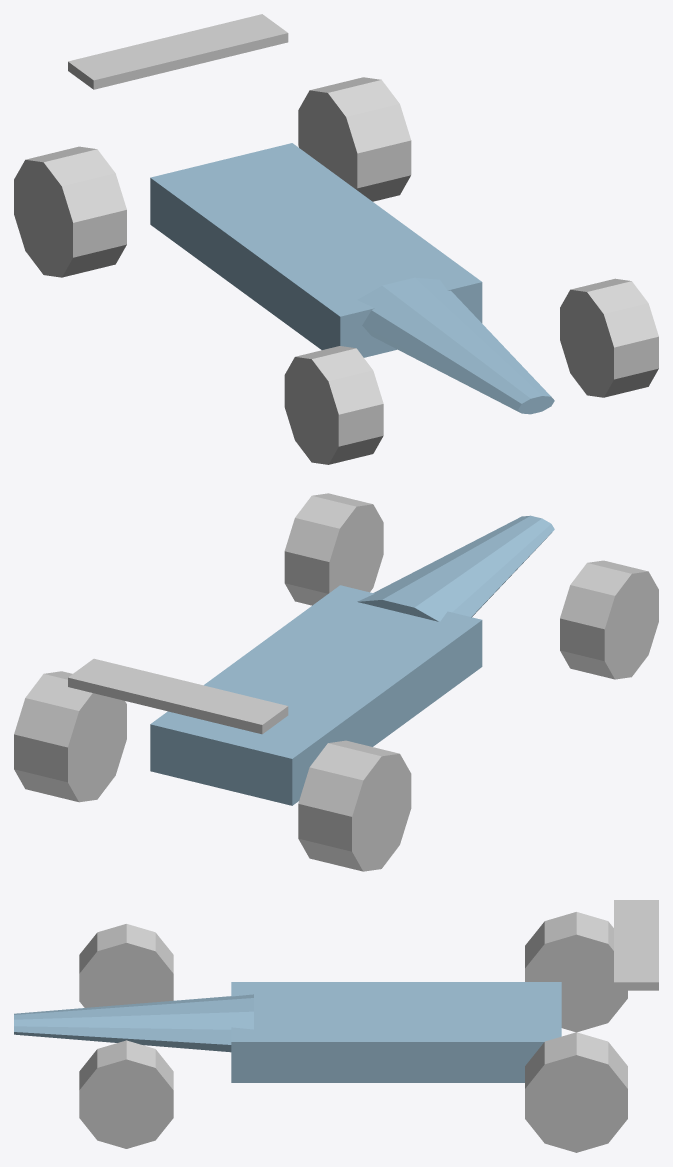
Rendered from ghost_car.glb.
3 views of the same model, one above another, from view 1: azimuth 30°, elevation 25°; view 2: azimuth 150°, elevation 25°; view 3: azimuth 270°, elevation 25° (orthographic). The views are drawn at different scales.
Visible parts, largest first — view 1: ghost_car; view 2: ghost_car; view 3: ghost_car.
Boxes of the visible parts, box(x1,y1,x2,y2) form: ghost_car: box(14, 14, 658, 464); ghost_car: box(14, 493, 658, 871); ghost_car: box(14, 900, 658, 1152).
Size of the model in its own units: 2.26 by 1.03 by 4.3.
